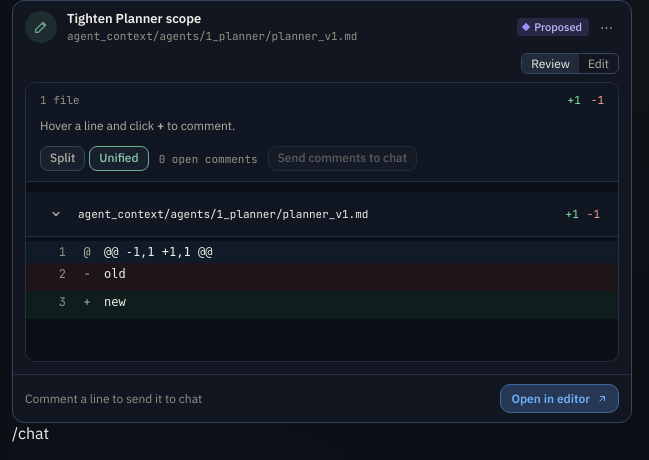
it: Edit primitive › opens the file in the editor view, not Agent Studio
Click the button "Open in editor": (560, 398) [500,384,619,413]
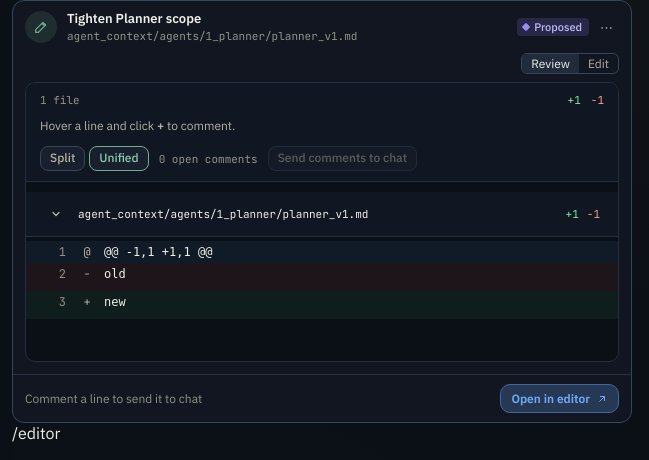
Expected: the text "agent_context/agents/1_planner/planner_v1.md" is shown, [67,29,357,43]
Result: the text with test id "path" reads "/editor" at [12,423,60,443]
